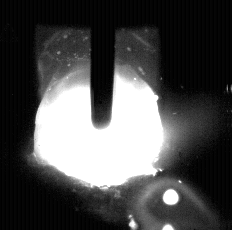arame: (91, 0, 115, 129)
poca: (33, 0, 164, 230)
